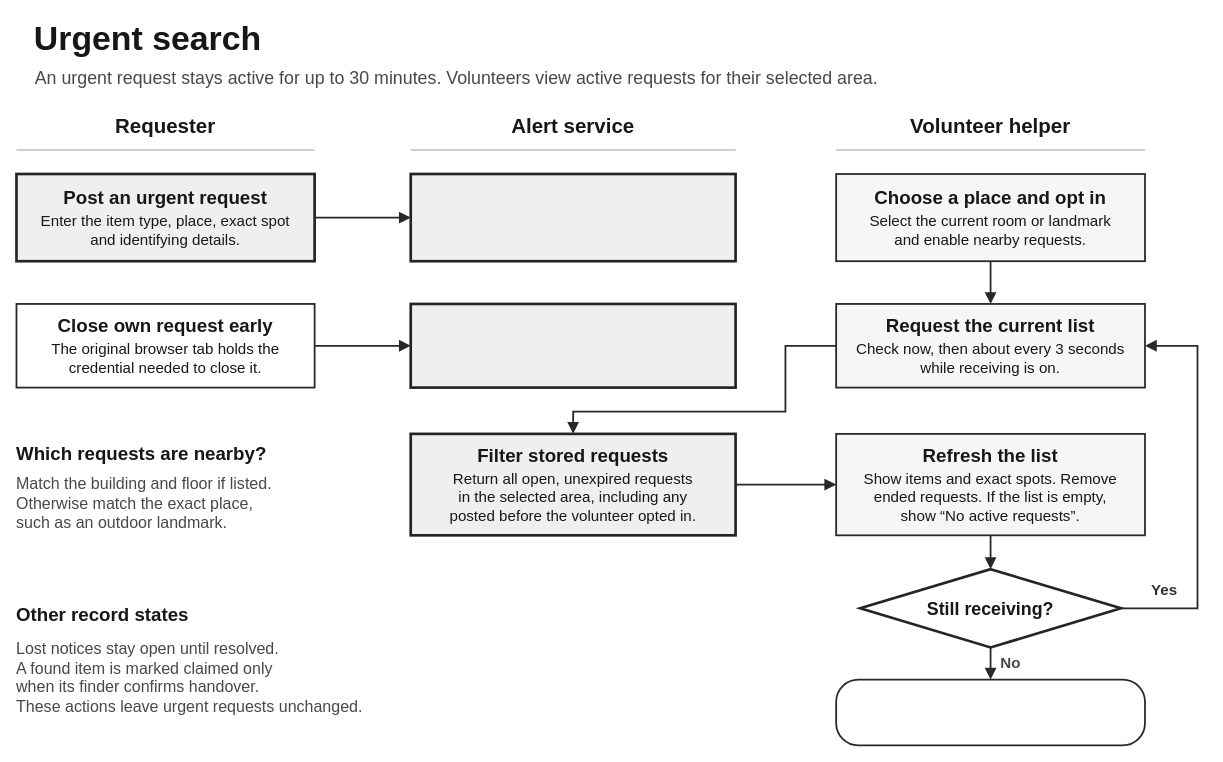
This 1223x762 diagram has some shape labels left out. The box of each missing label's shape, as (x1, y1, x2, y2) in pixels:
Check the owner credential If it matches, mark the request closed.: (409, 302, 736, 388)
Save the request Set its area and an expiry time 30 minutes after creation.: (409, 172, 736, 262)
Stop receiving Clear the list and stop checking.: (835, 678, 1145, 746)
